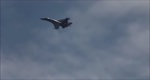maybay_muctieu: (41, 13, 72, 29)
